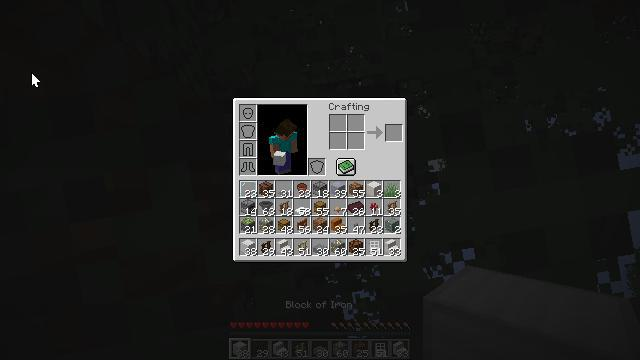cursor: (72, 31, 88, 41)
